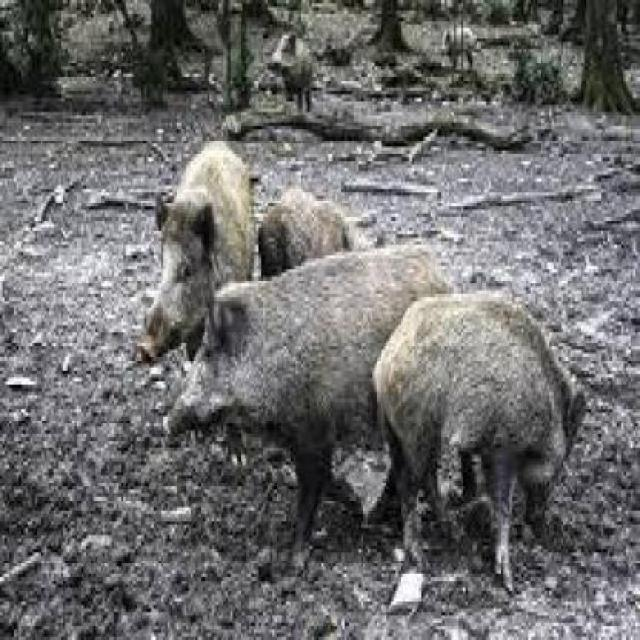wildboar: (162, 236, 478, 542), (370, 290, 588, 584), (139, 135, 266, 390), (258, 180, 376, 355)
